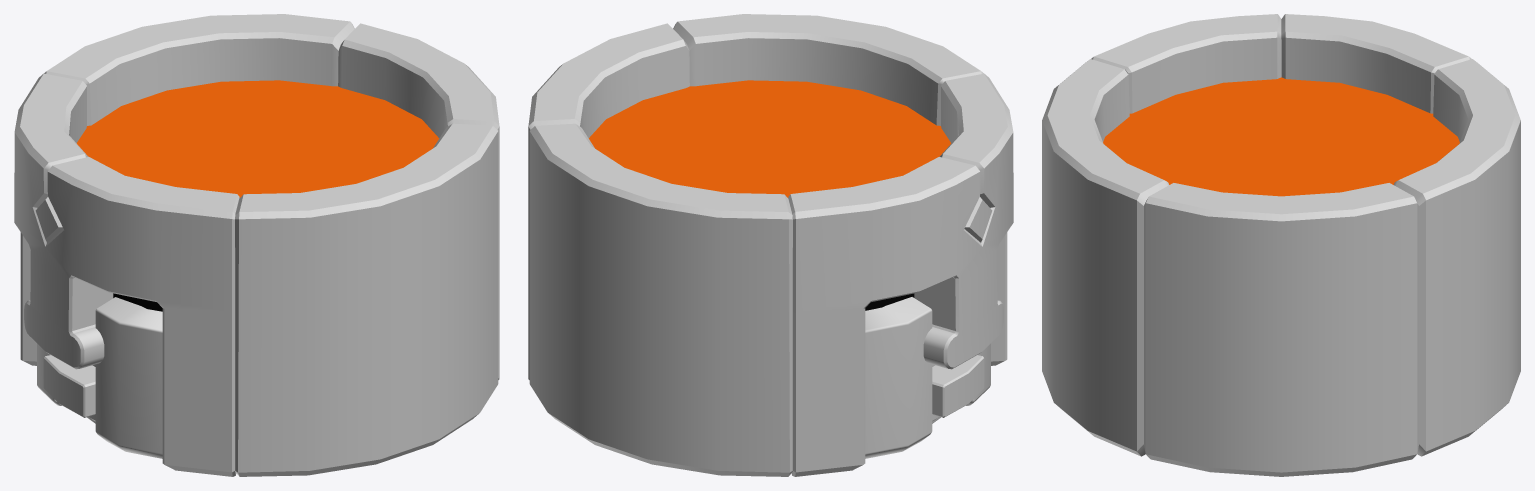
File: totem_head_face.fbx
3 views of the same model, side by side, from view 1: azimuth 30°, elevation 25°; view 2: azimuth 150°, elevation 25°; view 3: azimuth 270°, elevation 25° (orthographic).
Parts seen in each view (by area): view 1: toteam_head_back2, toteam_head6_vtx_2_, pCylinder134, toteam_head9, pCube252; view 2: toteam_head_back2, toteam_head6_vtx_2_, pCylinder134, toteam_head9, pCube252; view 3: toteam_head_back2, pCylinder134, toteam_head6_vtx_2_.
Boxes of the visible parts, bbox=[...] form: toteam_head_back2: bbox=[42, 14, 499, 476]; toteam_head6_vtx_2_: bbox=[14, 73, 239, 476]; pCylinder134: bbox=[76, 80, 438, 197]; toteam_head9: bbox=[37, 297, 162, 458]; pCube252: bbox=[43, 355, 95, 417]; toteam_head_back2: bbox=[528, 14, 985, 476]; toteam_head6_vtx_2_: bbox=[788, 73, 1013, 476]; pCylinder134: bbox=[589, 80, 951, 197]; toteam_head9: bbox=[865, 297, 990, 458]; pCube252: bbox=[932, 355, 984, 417]; toteam_head_back2: bbox=[1042, 59, 1520, 476]; pCylinder134: bbox=[1103, 77, 1459, 196]; toteam_head6_vtx_2_: bbox=[1091, 14, 1471, 113].
Bounding box in the file's own units: 81.4 × 51.49 × 80.33.
